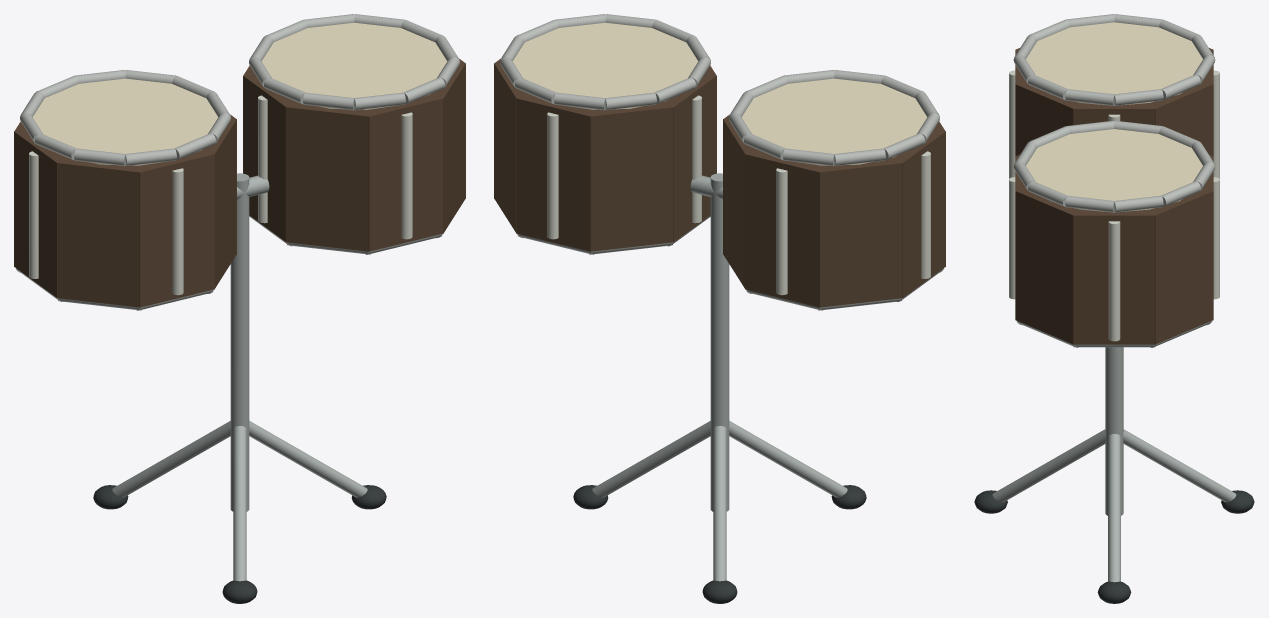
File: CMU3DMaterialLeisureTomDrumsCloud.glb
The picture shows the model from 3 angles, left to right: view 1: azimuth 30°, elevation 25°; view 2: azimuth 150°, elevation 25°; view 3: azimuth 270°, elevation 25°; orthographic projection. The views are drawn at different scales.
Parts seen in each view (by area): view 1: tom 1 separate curved shell stave 06, tom 0 separate curved shell stave 06, tom 0 cream drum skin, tom 1 cream drum skin, tom 0 separate curved shell stave 07, tom 1 separate curved shell stave 07, tom 0 separate curved shell stave 05, drum stand central tube, tom 1 separate curved shell stave 05, tom 1 separate curved shell stave 08, tom 0 separate curved shell stave 08, tripod leg 2 (+11 smaller); view 2: tom 1 separate curved shell stave 04, tom 0 separate curved shell stave 04, tom 0 cream drum skin, tom 1 cream drum skin, tom 0 separate curved shell stave 03, tom 1 separate curved shell stave 03, tom 0 separate curved shell stave 05, drum stand central tube, tom 1 separate curved shell stave 05, tom 1 separate curved shell stave 02, tom 0 separate curved shell stave 02, tripod leg 1 (+11 smaller); view 3: tom 1 separate curved shell stave 01, tom 1 cream drum skin, tom 0 cream drum skin, tom 1 separate curved shell stave 02, tom 1 separate curved shell stave 08, tom 0 separate curved shell stave 02, tom 0 separate curved shell stave 08, drum stand central tube, tripod leg 0, tripod leg 1, tripod leg 2, tom tension rod member 5 (+20 smaller).
Part boxes in pixels (left/top/right/bottom): tom 1 separate curved shell stave 06: left=285, top=102, right=372, bottom=251; tom 0 separate curved shell stave 06: left=57, top=156, right=144, bottom=307; tom 0 cream drum skin: left=32, top=78, right=218, bottom=165; tom 1 cream drum skin: left=261, top=22, right=447, bottom=109; tom 0 separate curved shell stave 07: left=132, top=148, right=214, bottom=307; tom 1 separate curved shell stave 07: left=360, top=93, right=443, bottom=251; tom 0 separate curved shell stave 05: left=14, top=128, right=70, bottom=297; drum stand central tube: left=230, top=173, right=249, bottom=511; tom 1 separate curved shell stave 05: left=243, top=74, right=300, bottom=242; tom 1 separate curved shell stave 08: left=426, top=63, right=465, bottom=233; tom 0 separate curved shell stave 08: left=197, top=119, right=236, bottom=289; tripod leg 2: left=233, top=426, right=246, bottom=581; tom 1 separate curved shell stave 04: left=588, top=100, right=674, bottom=251; tom 0 separate curved shell stave 04: left=816, top=156, right=902, bottom=307; tom 0 cream drum skin: left=741, top=78, right=927, bottom=165; tom 1 cream drum skin: left=512, top=22, right=698, bottom=109; tom 0 separate curved shell stave 03: left=745, top=148, right=828, bottom=307; tom 1 separate curved shell stave 03: left=516, top=96, right=599, bottom=251; tom 0 separate curved shell stave 05: left=888, top=129, right=945, bottom=297; drum stand central tube: left=710, top=173, right=729, bottom=511; tom 1 separate curved shell stave 05: left=659, top=73, right=716, bottom=242; tom 1 separate curved shell stave 02: left=494, top=63, right=533, bottom=233; tom 0 separate curved shell stave 02: left=723, top=119, right=762, bottom=289; tripod leg 1: left=713, top=426, right=726, bottom=581; tom 1 separate curved shell stave 01: left=1073, top=208, right=1155, bottom=344; tom 1 cream drum skin: left=1026, top=129, right=1202, bottom=212; tom 0 cream drum skin: left=1026, top=22, right=1202, bottom=105; tom 1 separate curved shell stave 02: left=1144, top=187, right=1213, bottom=344; tom 1 separate curved shell stave 08: left=1015, top=187, right=1084, bottom=344; tom 0 separate curved shell stave 02: left=1144, top=83, right=1213, bottom=155; tom 0 separate curved shell stave 08: left=1015, top=83, right=1084, bottom=155; drum stand central tube: left=1105, top=347, right=1123, bottom=515; tripod leg 0: left=1108, top=434, right=1120, bottom=582; tripod leg 1: left=1123, top=429, right=1236, bottom=502; tripod leg 2: left=992, top=429, right=1105, bottom=502; tom tension rod member 5: left=1108, top=221, right=1120, bottom=341.
Bounding box in the file's own units: 0.716 × 0.739 × 0.4331.
